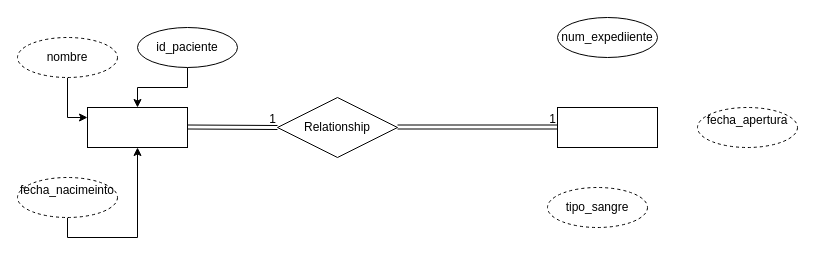
This 815x263 diagram has some shape labels left out. Here are the shapes that lost their labels. From the top down, the centre of each, then its label:
At (137,127): "paciente".
At (607,127): "expediente".
